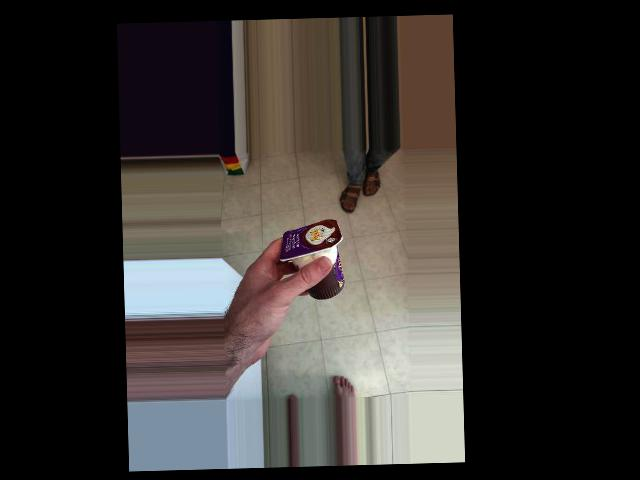milky: (291, 210, 384, 272)
